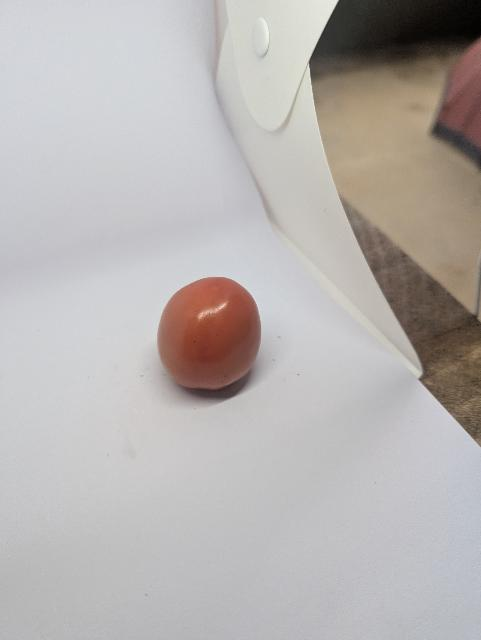red: (154, 273, 270, 410)
